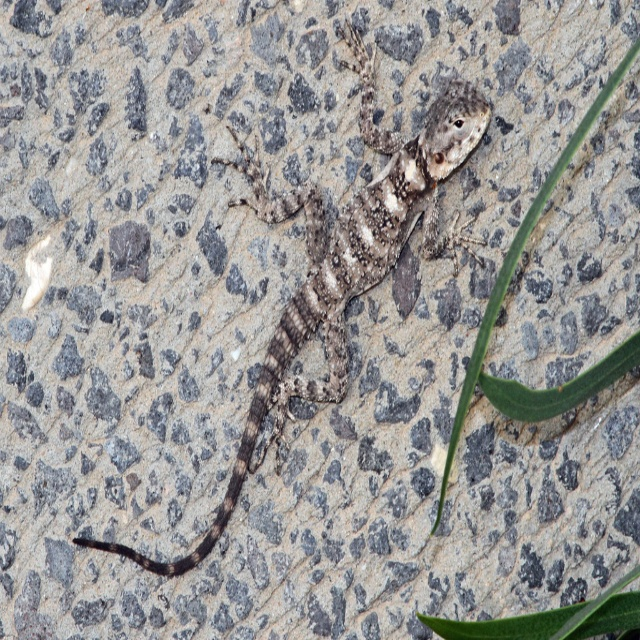Lizard: (83, 46, 502, 615)
